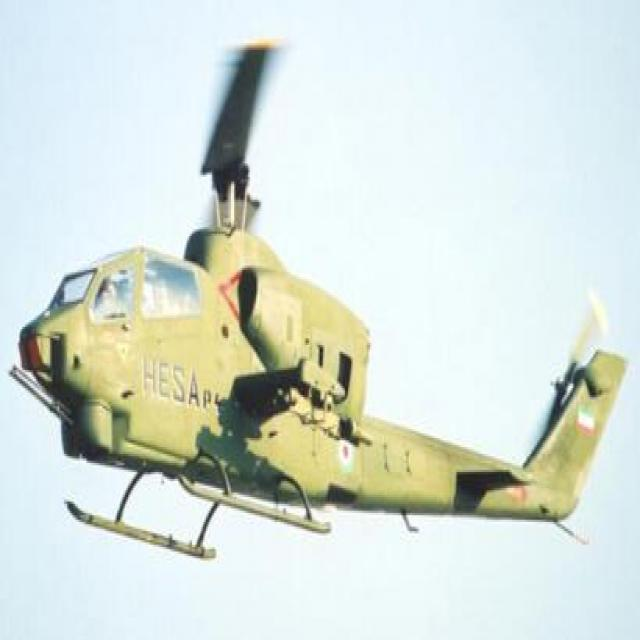MIL_HELO: (11, 32, 638, 590)
